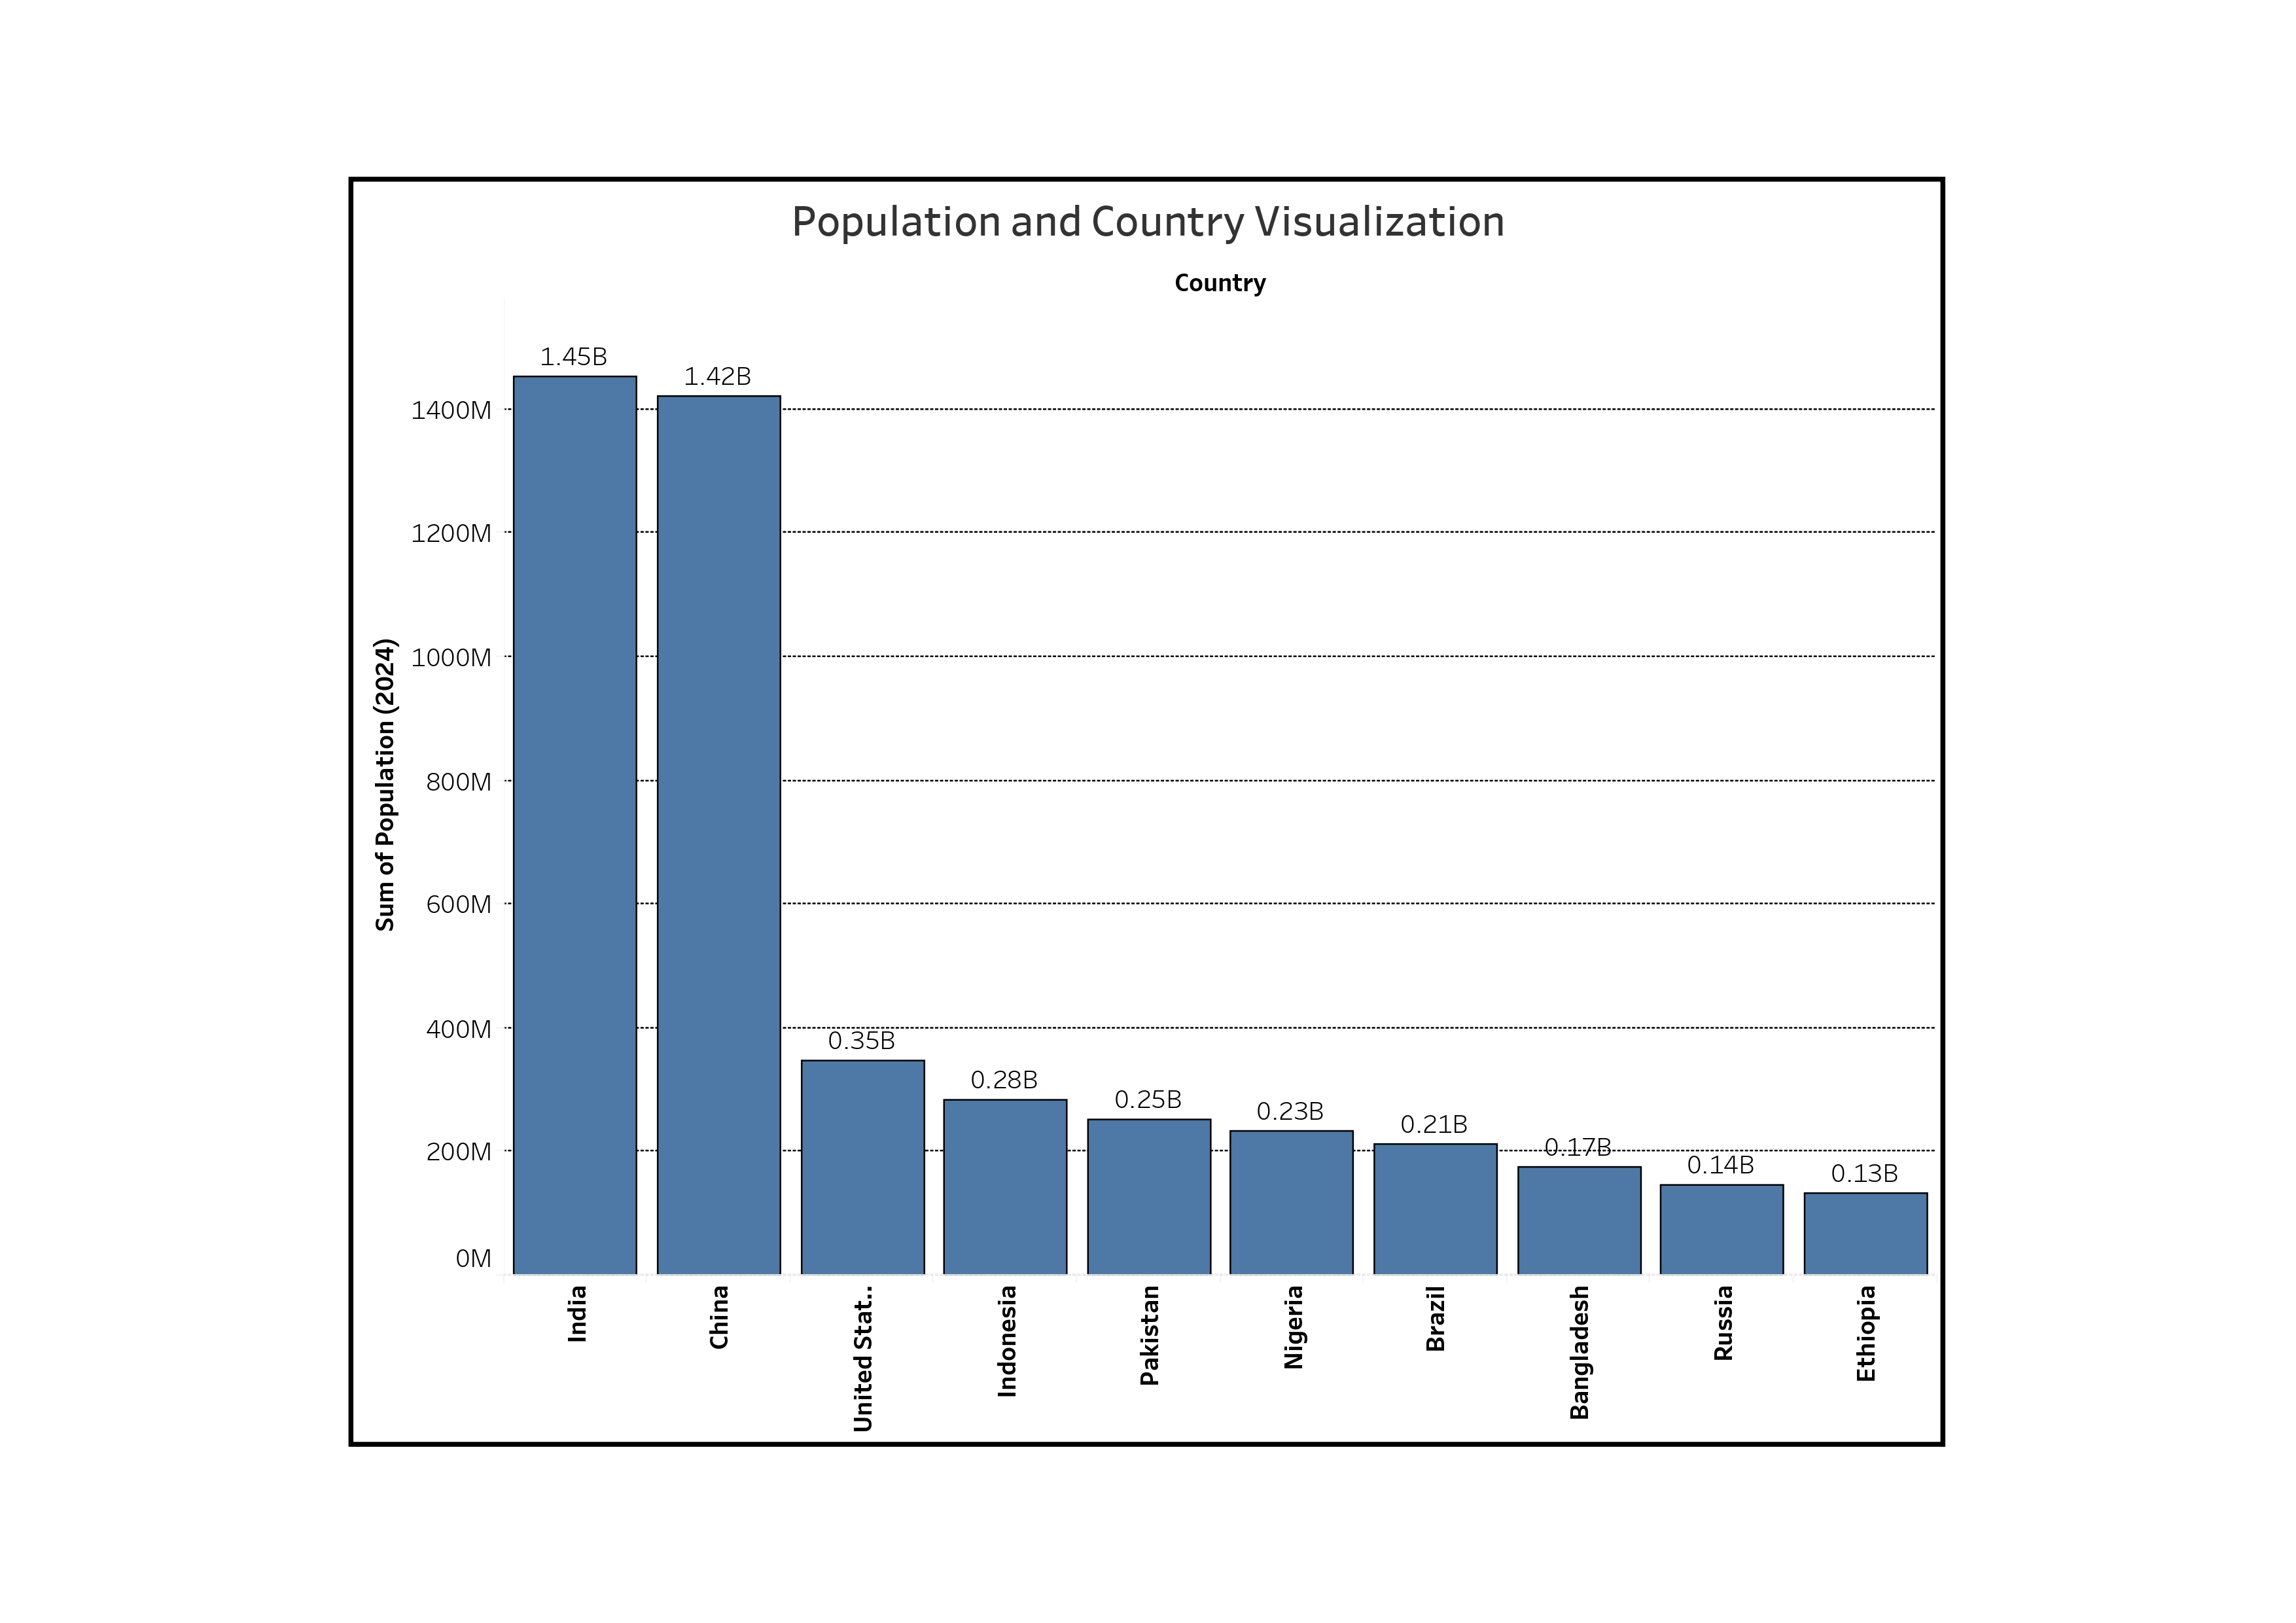

This screenshot's page, from the dashboard's own definition file:
{"tool":"tableau","page":{"name":"Dashboard 1","canvas":[1000,800],"ordinal":0},"visuals":[{"type":"worksheet","title":"Sheet 1","mark":"Bar","rows":["Population (2024)"],"cols":["Country"],"box":[8,8,984,784]}]}

Visuals, with their boxes on the page's 1000x800 design canvas (x1, y1, x2, y2). These are canvas units, not pixel positions in the 2296x1623 screenshot, which may show the page scaled, cropped or inside an application window:
"Sheet 1" worksheet (Bar marks): rect(8, 8, 992, 792)
